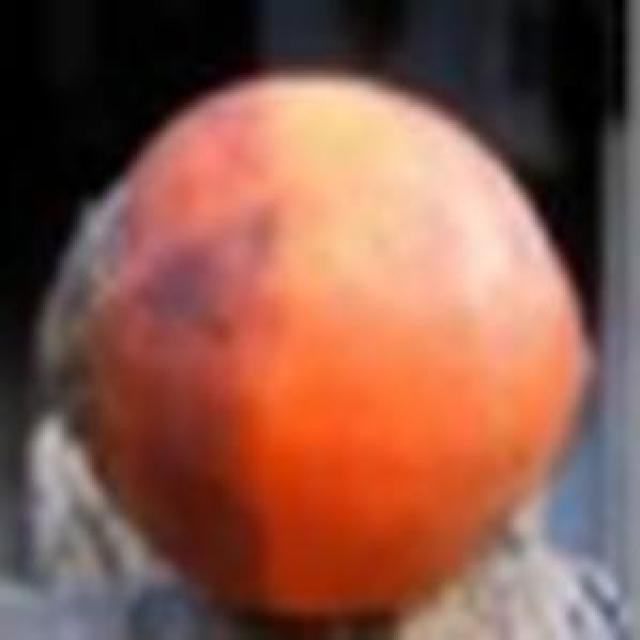good: (36, 71, 595, 638)
